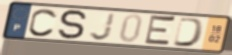0: (118, 13, 146, 45)
C: (27, 7, 60, 38)
D: (171, 16, 206, 48)
E: (142, 13, 178, 48)
J: (88, 12, 118, 42)
S: (56, 9, 89, 41)
